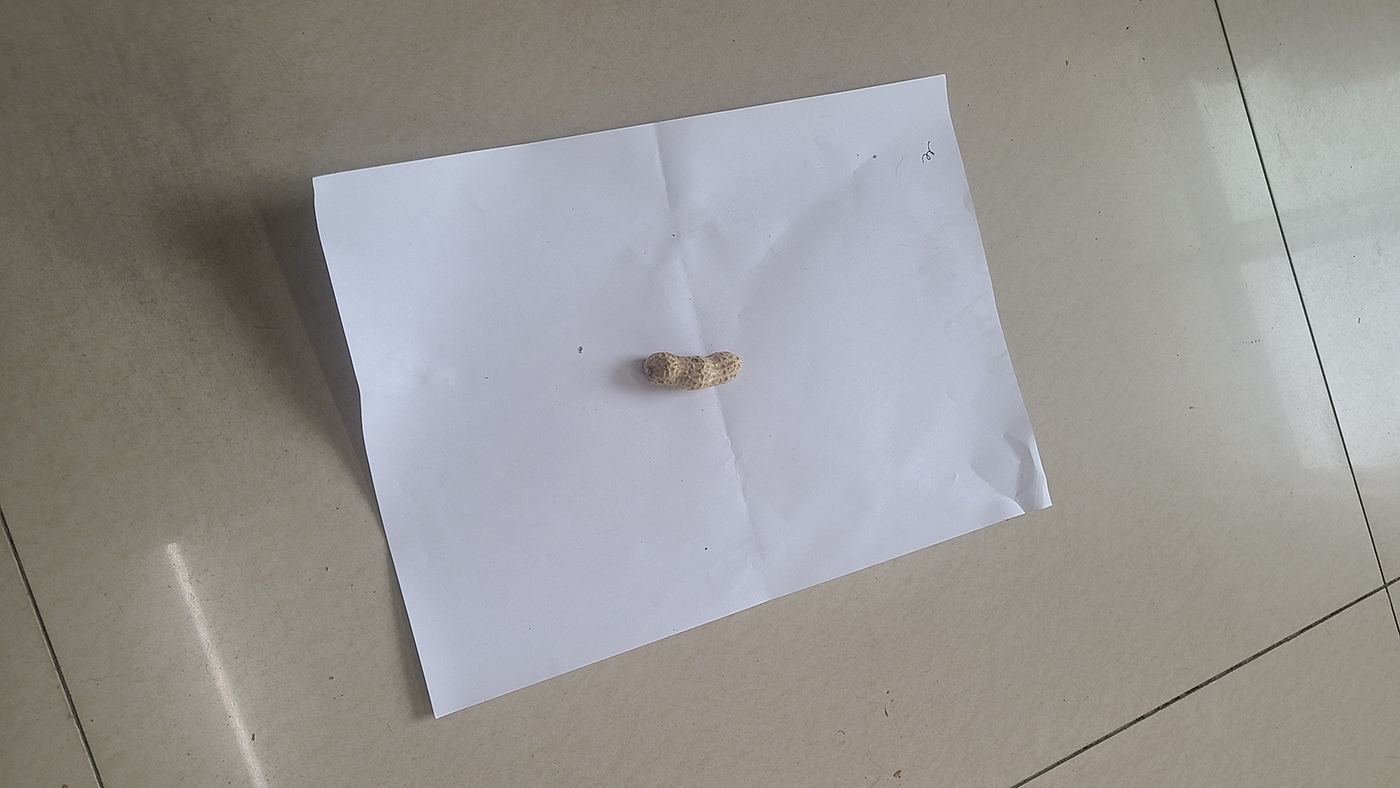h: (643, 350, 743, 388)
